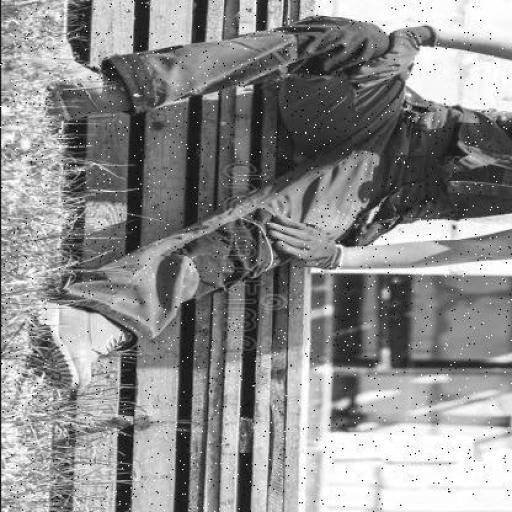safety_shoe: (28, 298, 137, 388), (44, 45, 121, 121)
